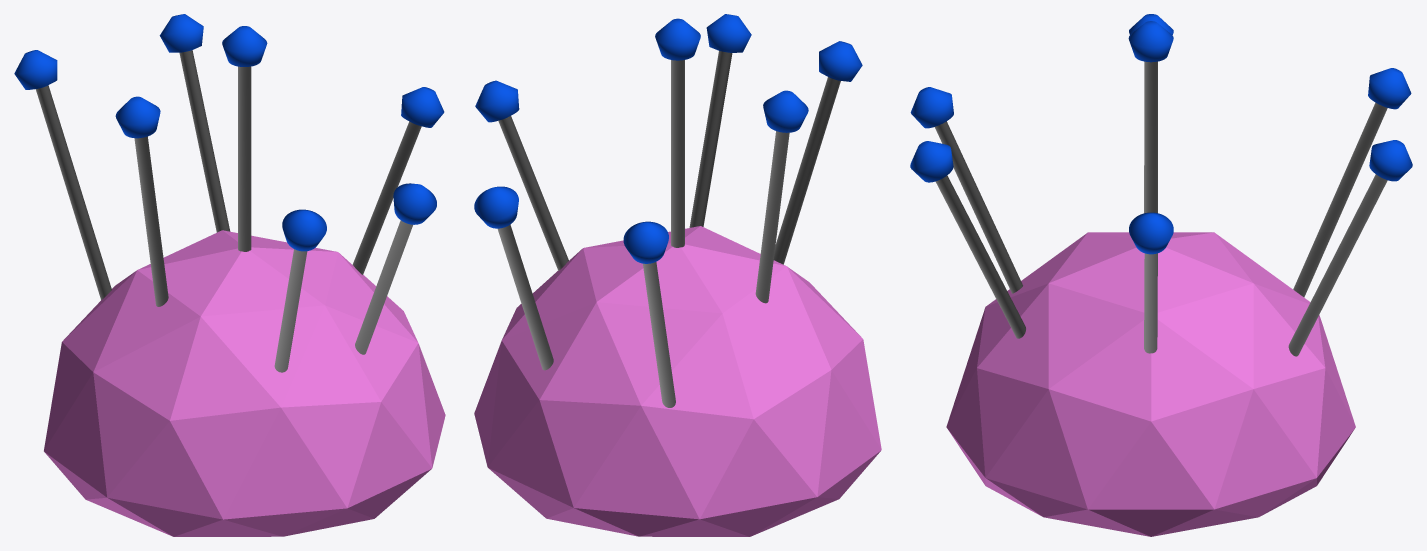
File: pincushion.fbx
The picture shows the model from 3 angles, left to right: view 1: azimuth 30°, elevation 25°; view 2: azimuth 150°, elevation 25°; view 3: azimuth 270°, elevation 25°; orthographic projection.
Parts seen in each view (by area): view 1: Icosphere; view 2: Icosphere; view 3: Icosphere.
Part boxes in pixels (left/top/right/bottom): Icosphere: left=14, top=14, right=445, bottom=536; Icosphere: left=474, top=14, right=881, bottom=536; Icosphere: left=910, top=14, right=1412, bottom=536.
Size of the model in its own units: 206 by 248 by 245.
